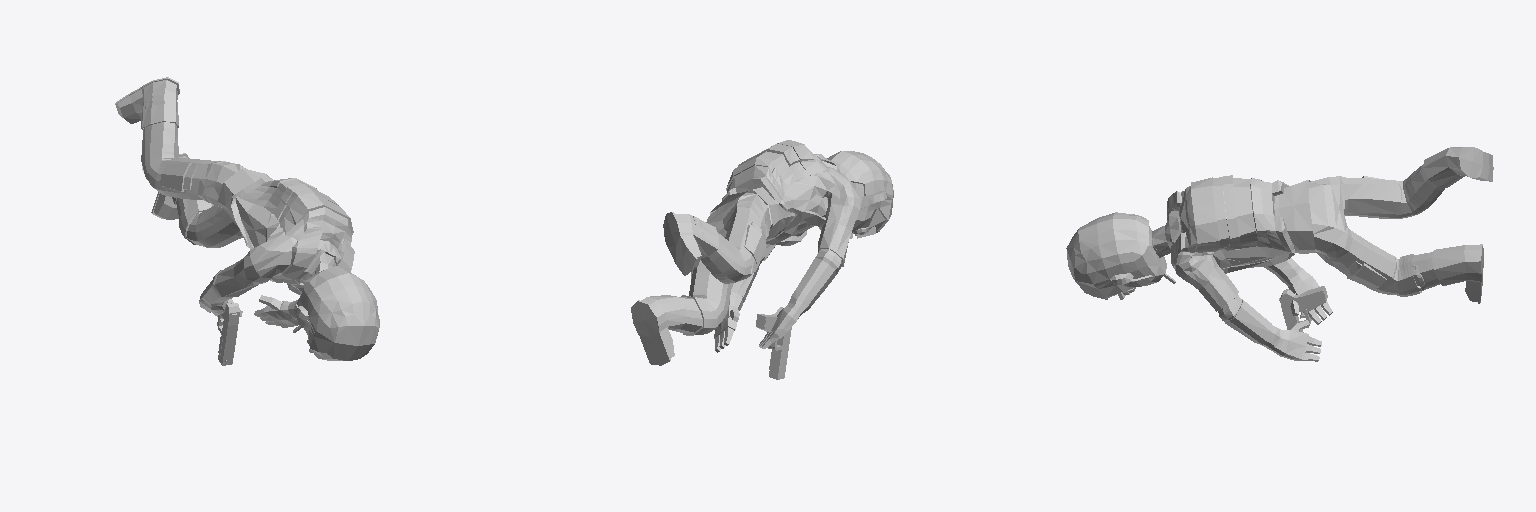
The model's file is frame_0031.obj.
The picture shows the model from 3 angles: view 1: azimuth 30°, elevation 25°; view 2: azimuth 150°, elevation 25°; view 3: azimuth 270°, elevation 25°; orthographic projection.
Parts seen in each view (by area): view 1: Body, Gun; view 2: Body, Gun; view 3: Body, Gun.
Part boxes in pixels (x1,y1,x2,y2): Body: (115,77,379,360); Gun: (217,299,239,365); Body: (631,140,893,365); Gun: (756,307,791,379); Body: (1066,147,1493,361); Gun: (1279,286,1327,352).
Size of the model in its own units: 1.27 by 2.3 by 4.04.